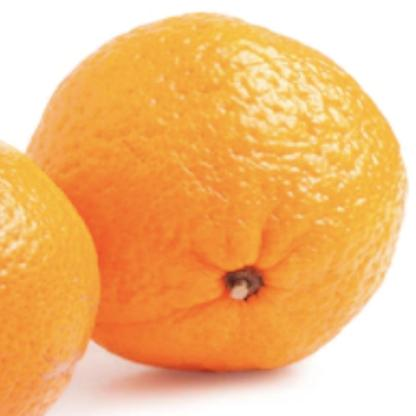fresh: (24, 9, 408, 382)
